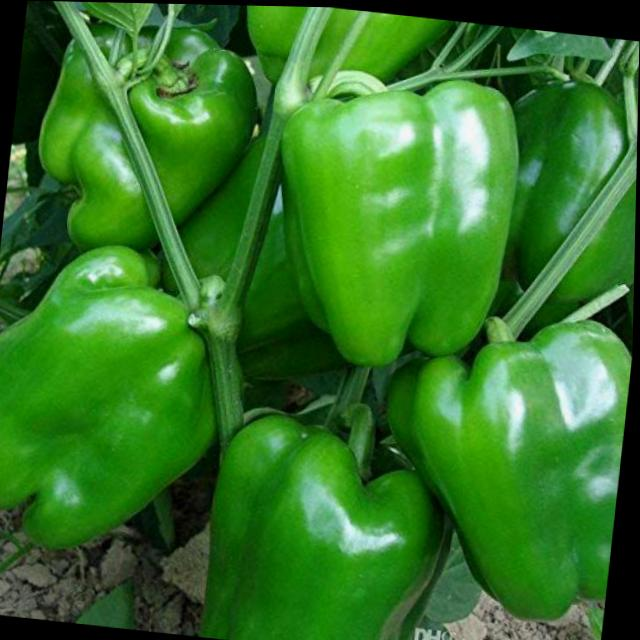Capsicum: (369, 297, 635, 623), (261, 62, 527, 376), (0, 230, 238, 560), (199, 387, 466, 640), (29, 14, 267, 260), (502, 66, 639, 305)
